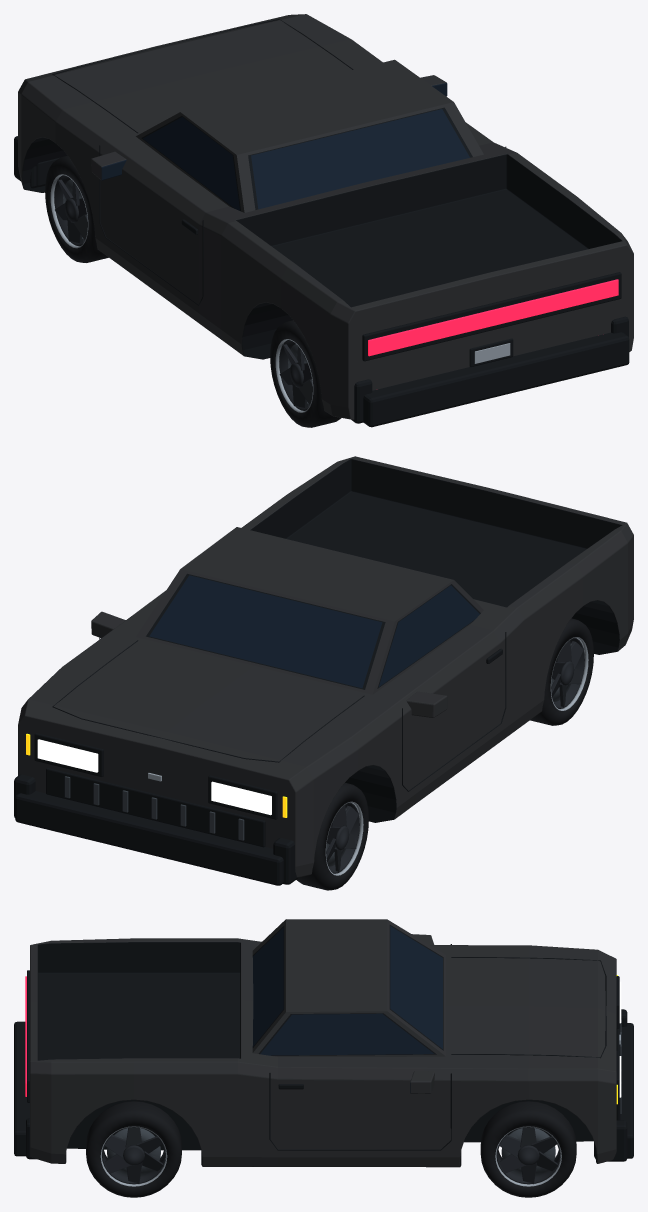
File: ns-bulwark-01.glb
3 views of the same model, one above another, from view 1: azimuth 30°, elevation 25°; view 2: azimuth 150°, elevation 25°; view 3: azimuth 270°, elevation 25° (orthographic). The views are drawn at different scales.
Parts seen in each view (by area): view 1: coachwork, greenhouse, rear-bumper, tail-bar, tail-recess, tire-rear-left, tire-front-left, six-spoke-rear-left, six-spoke-front-left, mirror-left, hood-shutline; view 2: coachwork, greenhouse, front-bumper, front-grille, tire-front-left, tire-rear-left, headlight-right, headlight-left, six-spoke-front-left, six-spoke-rear-left, headlight-recess-right, headlight-recess-left (+3 smaller); view 3: coachwork, greenhouse, tire-front-right, tire-rear-right, rear-bumper, six-spoke-front-right, six-spoke-rear-right, front-bumper, door-shutline-right, hood-shutline, brake-disc-front-right, brake-disc-rear-right (+5 smaller).
Boxes of the visible parts, <box> form: coachwork: <box>18,14,633,419</box>; greenhouse: <box>136,59,483,212</box>; rear-bumper: <box>363,332,629,427</box>; tail-bar: <box>368,279,618,356</box>; tail-recess: <box>362,272,621,361</box>; tire-rear-left: <box>270,320,341,427</box>; tire-front-left: <box>45,155,108,262</box>; six-spoke-rear-left: <box>279,344,312,407</box>; six-spoke-front-left: <box>55,179,87,243</box>; mirror-left: <box>91,151,126,180</box>; hood-shutline: <box>52,19,353,133</box>; coachwork: <box>18,456,633,877</box>; greenhouse: <box>136,527,483,694</box>; front-bumper: <box>15,791,283,885</box>; front-grille: <box>46,767,265,847</box>; tire-front-left: <box>296,783,368,890</box>; tire-rear-left: <box>530,618,593,725</box>; headlight-right: <box>37,739,98,772</box>; headlight-left: <box>211,781,271,815</box>; six-spoke-front-left: <box>326,805,359,872</box>; six-spoke-rear-left: <box>551,640,584,708</box>; headlight-recess-right: <box>34,733,103,776</box>; headlight-recess-left: <box>208,775,277,819</box>; coachwork: <box>30,938,616,1167</box>; greenhouse: <box>252,919,445,1056</box>; tire-front-right: <box>480,1101,576,1197</box>; tire-rear-right: <box>86,1101,181,1197</box>; rear-bumper: <box>14,1021,29,1156</box>; six-spoke-front-right: <box>499,1127,558,1184</box>; six-spoke-rear-right: <box>104,1127,163,1183</box>; front-bumper: <box>594,1023,633,1158</box>; door-shutline-right: <box>269,1073,451,1150</box>; hood-shutline: <box>451,957,606,1058</box>; brake-disc-front-right: <box>501,1127,555,1175</box>; brake-disc-rear-right: <box>107,1128,160,1176</box>.
Bounding box in the file's own units: 2.63 × 1.46 × 4.65.
